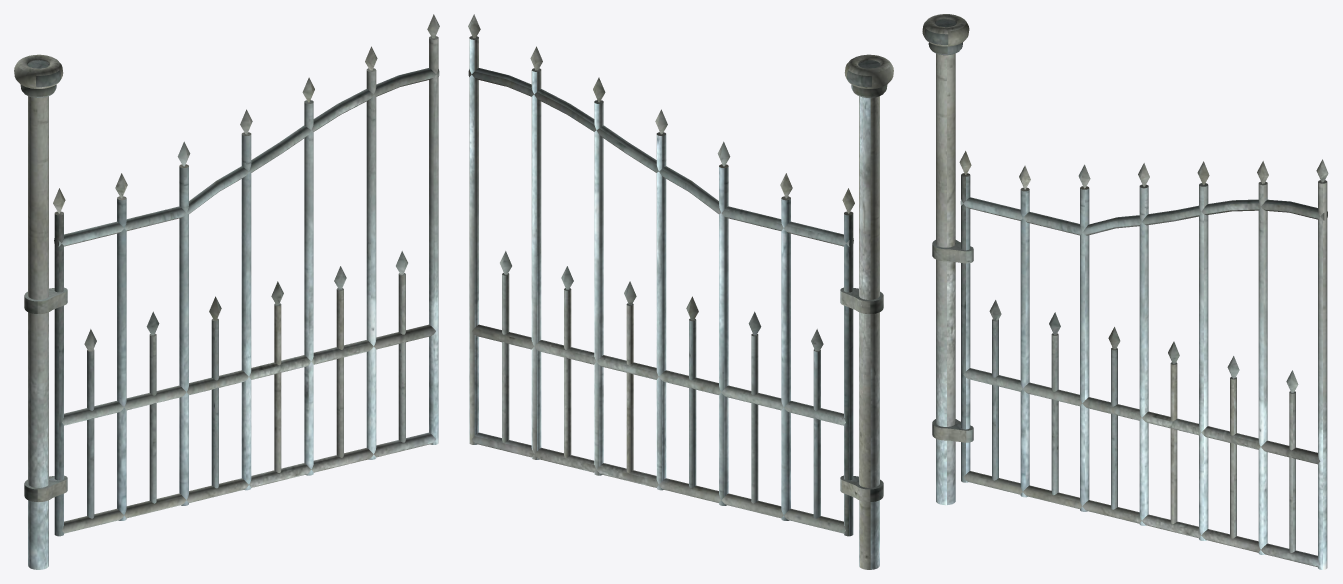
The model's file is reja.obj.
The picture shows the model from 3 angles, left to right: view 1: azimuth 30°, elevation 25°; view 2: azimuth 150°, elevation 25°; view 3: azimuth 330°, elevation 25°; orthographic projection. The views are drawn at different scales.
Visible parts, largest first — view 1: reja; view 2: reja; view 3: reja.
Part boxes in pixels (bbox=[...]): reja: bbox=[14, 14, 439, 569]; reja: bbox=[468, 14, 893, 569]; reja: bbox=[922, 14, 1328, 569].
Bounding box in the file's own units: 6.92 × 7.92 × 0.7012.
